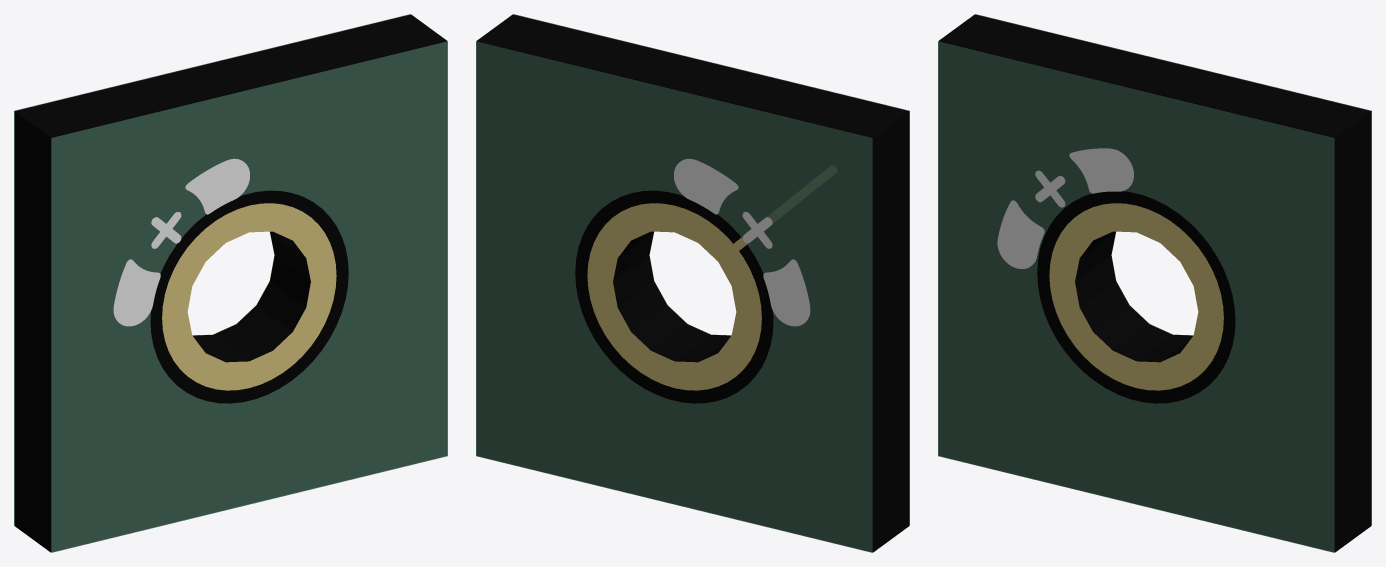
File: jacdac_power_mh_0.1.glb
3 views of the same model, side by side, from view 1: azimuth 30°, elevation 25°; view 2: azimuth 150°, elevation 25°; view 3: azimuth 330°, elevation 25° (orthographic).
Visible parts, largest first — view 1: SHAPE_1_IndexedFaceSet, SHAPE_6_IndexedFaceSet, SHAPE_2_IndexedFaceSet, SHAPE_5_IndexedFaceSet, SHAPE_8_IndexedFaceSet, SHAPE_4_IndexedFaceSet; view 2: SHAPE_1_IndexedFaceSet, SHAPE_4_IndexedFaceSet, SHAPE_2_IndexedFaceSet, SHAPE_3_IndexedFaceSet, SHAPE_7_IndexedFaceSet, SHAPE_6_IndexedFaceSet; view 3: SHAPE_1_IndexedFaceSet, SHAPE_6_IndexedFaceSet, SHAPE_2_IndexedFaceSet, SHAPE_5_IndexedFaceSet, SHAPE_8_IndexedFaceSet, SHAPE_4_IndexedFaceSet.
Boxes of the visible parts, x1,y1,x2,y2 form: SHAPE_1_IndexedFaceSet: (50,41,446,552); SHAPE_6_IndexedFaceSet: (51,41,447,552); SHAPE_2_IndexedFaceSet: (14,14,446,551); SHAPE_5_IndexedFaceSet: (162,203,336,390); SHAPE_8_IndexedFaceSet: (113,158,249,326); SHAPE_4_IndexedFaceSet: (14,14,410,525); SHAPE_1_IndexedFaceSet: (477,41,873,552); SHAPE_4_IndexedFaceSet: (476,41,872,552); SHAPE_2_IndexedFaceSet: (477,14,909,551); SHAPE_3_IndexedFaceSet: (587,166,836,390); SHAPE_7_IndexedFaceSet: (674,158,810,326); SHAPE_6_IndexedFaceSet: (513,14,909,525); SHAPE_1_IndexedFaceSet: (939,41,1335,552); SHAPE_6_IndexedFaceSet: (938,41,1334,552); SHAPE_2_IndexedFaceSet: (939,14,1371,551); SHAPE_5_IndexedFaceSet: (1049,203,1223,390); SHAPE_8_IndexedFaceSet: (997,148,1133,269); SHAPE_4_IndexedFaceSet: (975,14,1371,525).
Bounding box in the file's own units: 10 × 10 × 1.75.
